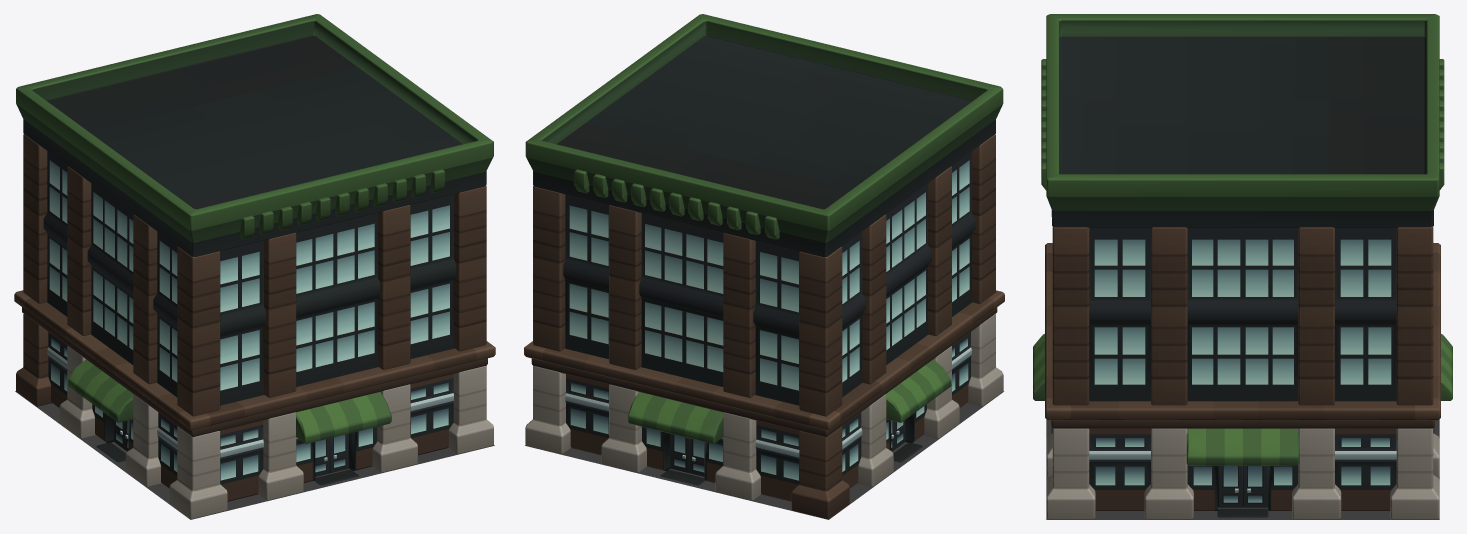
Rendered from brown_house.glb.
The picture shows the model from 3 angles, left to right: view 1: azimuth 30°, elevation 25°; view 2: azimuth 150°, elevation 25°; view 3: azimuth 270°, elevation 25°; orthographic projection. The views are drawn at different scales.
Visible parts, largest first — view 1: office_building_type1_double_floor_brown, office_building_type1_roof_brown, office_building_type1_ground_floor_brown, door_front_office_right; view 2: office_building_type1_double_floor_brown, office_building_type1_roof_brown, office_building_type1_ground_floor_brown, door_back_office_left, door_back_office_right; view 3: office_building_type1_roof_brown, office_building_type1_double_floor_brown, office_building_type1_ground_floor_brown, door_rightside_office_left, door_rightside_office_right.
Part boxes in pixels (x1,y1,x2,y2): office_building_type1_double_floor_brown: (14,134,495,437); office_building_type1_roof_brown: (16,14,493,256); office_building_type1_ground_floor_brown: (15,314,494,519); door_front_office_right: (330,433,348,473); office_building_type1_double_floor_brown: (524,134,1004,437); office_building_type1_roof_brown: (525,14,1003,257); office_building_type1_ground_floor_brown: (525,314,1003,519); door_back_office_left: (670,433,689,473); door_back_office_right: (689,438,704,476); office_building_type1_roof_brown: (1041,14,1444,227); office_building_type1_double_floor_brown: (1045,226,1440,428); office_building_type1_ground_floor_brown: (1033,334,1452,519); door_rightside_office_left: (1218,466,1242,507); door_rightside_office_right: (1243,466,1267,507).
Size of the model in its own units: 17.08 by 15.33 by 17.08.
3 materials, 3 textured.
